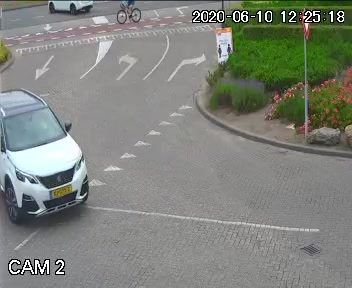car: (0, 77, 124, 228), (41, 0, 92, 21)
